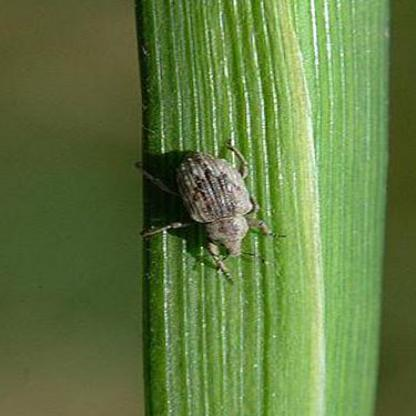rice-bug: (145, 146, 267, 266)
